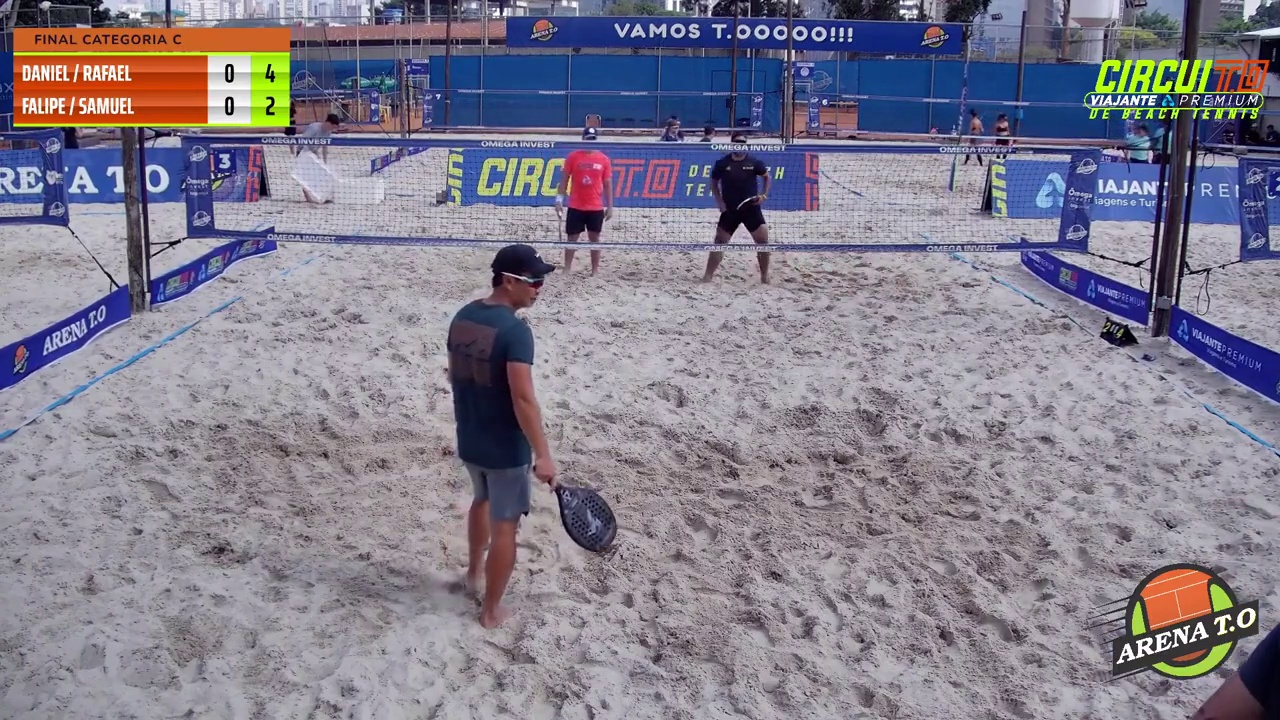court_line: (607, 0, 798, 535), (638, 0, 803, 402)
